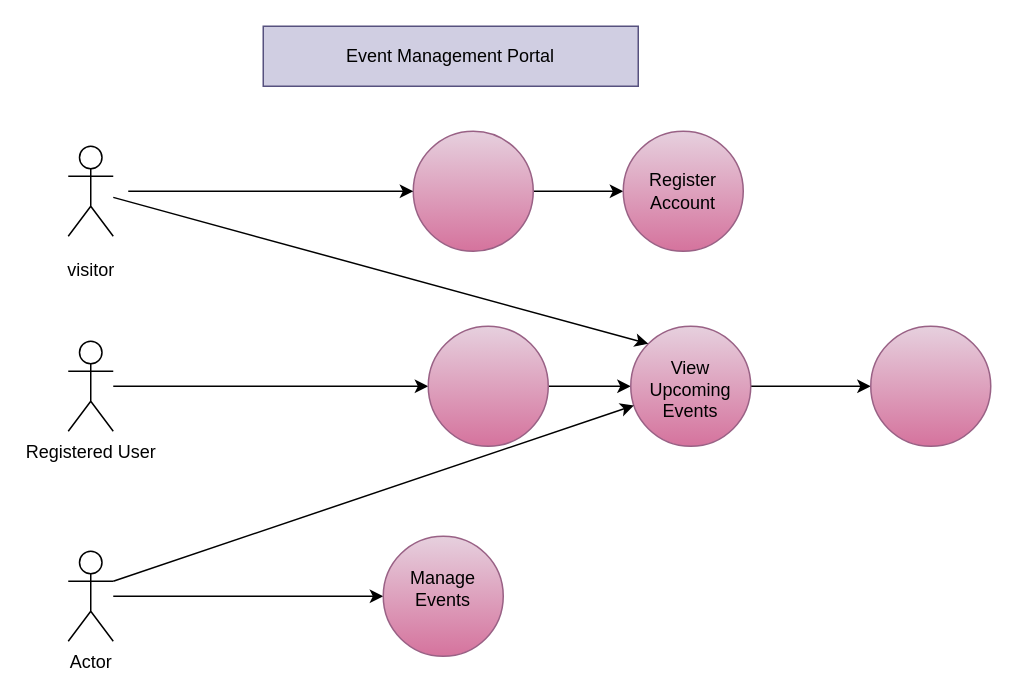
Image size: 1017x699. Some labels were removed from this diagram. The shapes that lost their labels are listed below. From the top down, each one's box as (x1, y1, x2, y2) in pixels, then its label:
(412, 130, 533, 251): Login
(427, 325, 548, 446): Ticket Booking and Payment
(869, 325, 991, 446): View My Tickets
